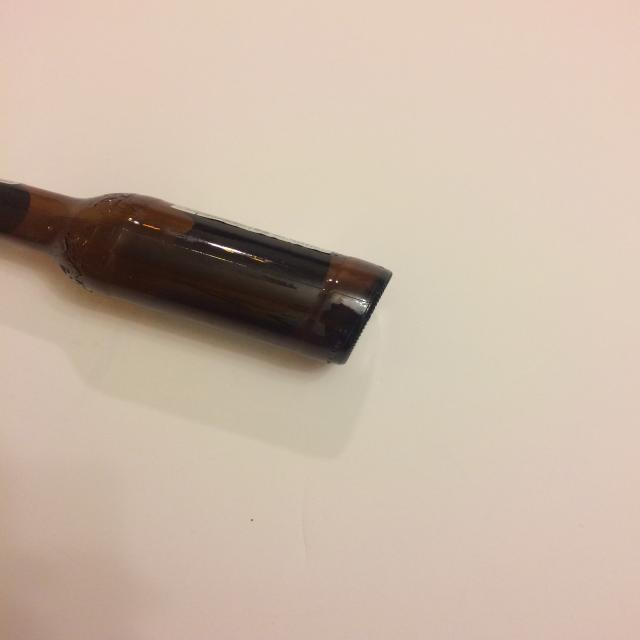glass: (0, 176, 394, 366)
